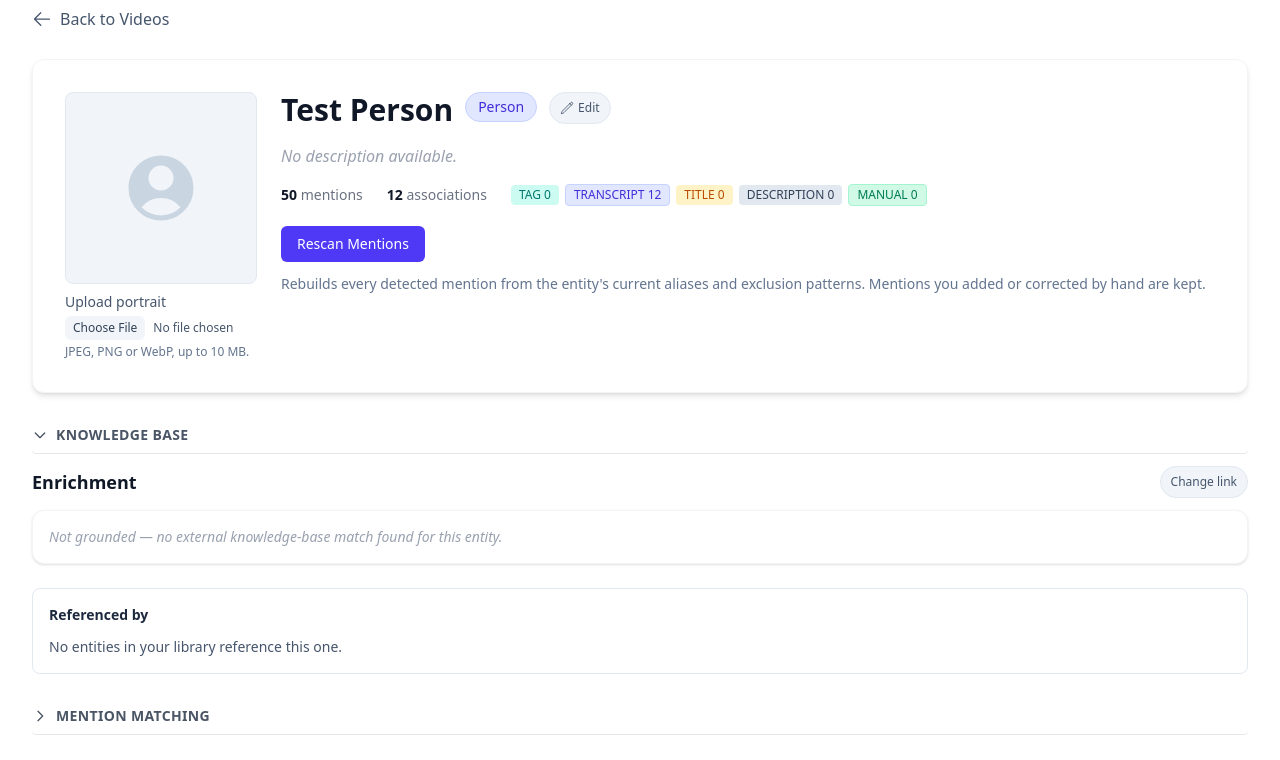
EntityDetailPage — alias delete (#289) › does not delete on a single click — shows a confirmation first
The width and height of the screenshot is (1280, 760).
Click the button "Mention matching": (133, 716) [32,698,1248,735]
(page scrolled)
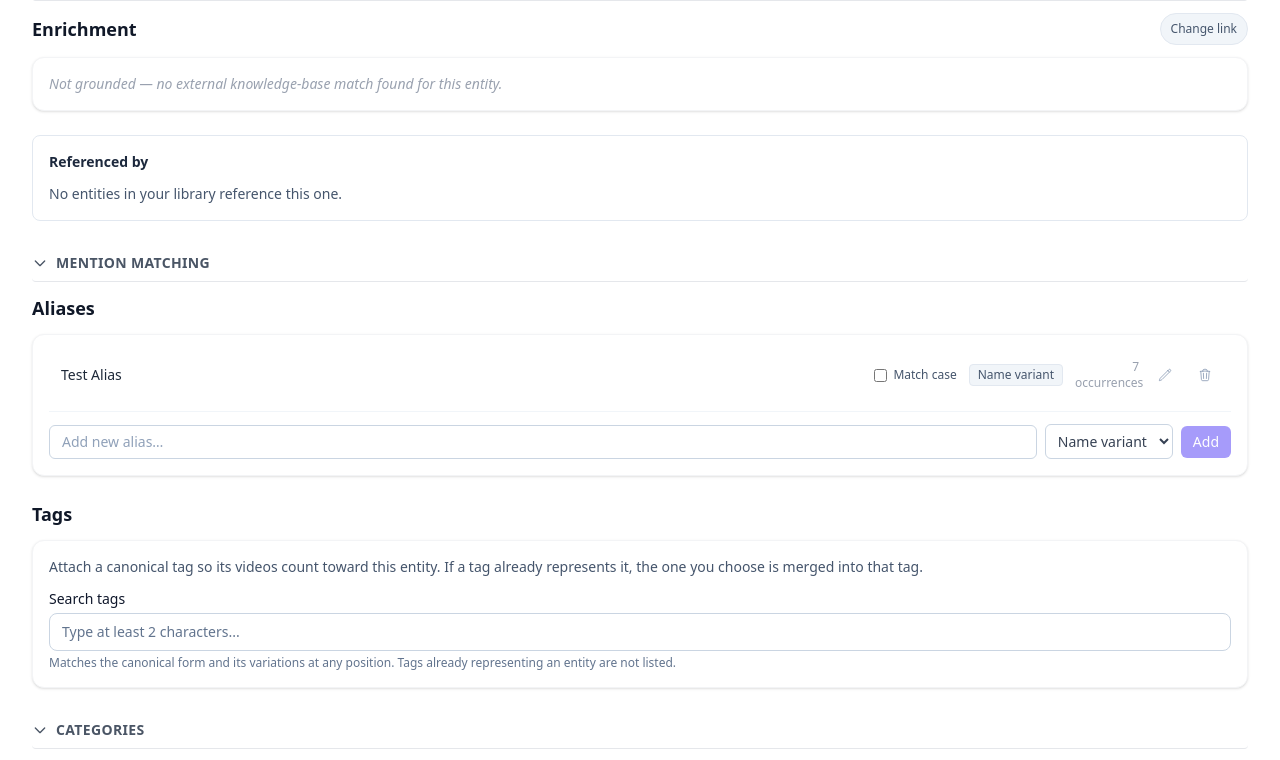
Click the button named "delete alias \"test alias\"": (1205, 375) [1191,361,1219,389]
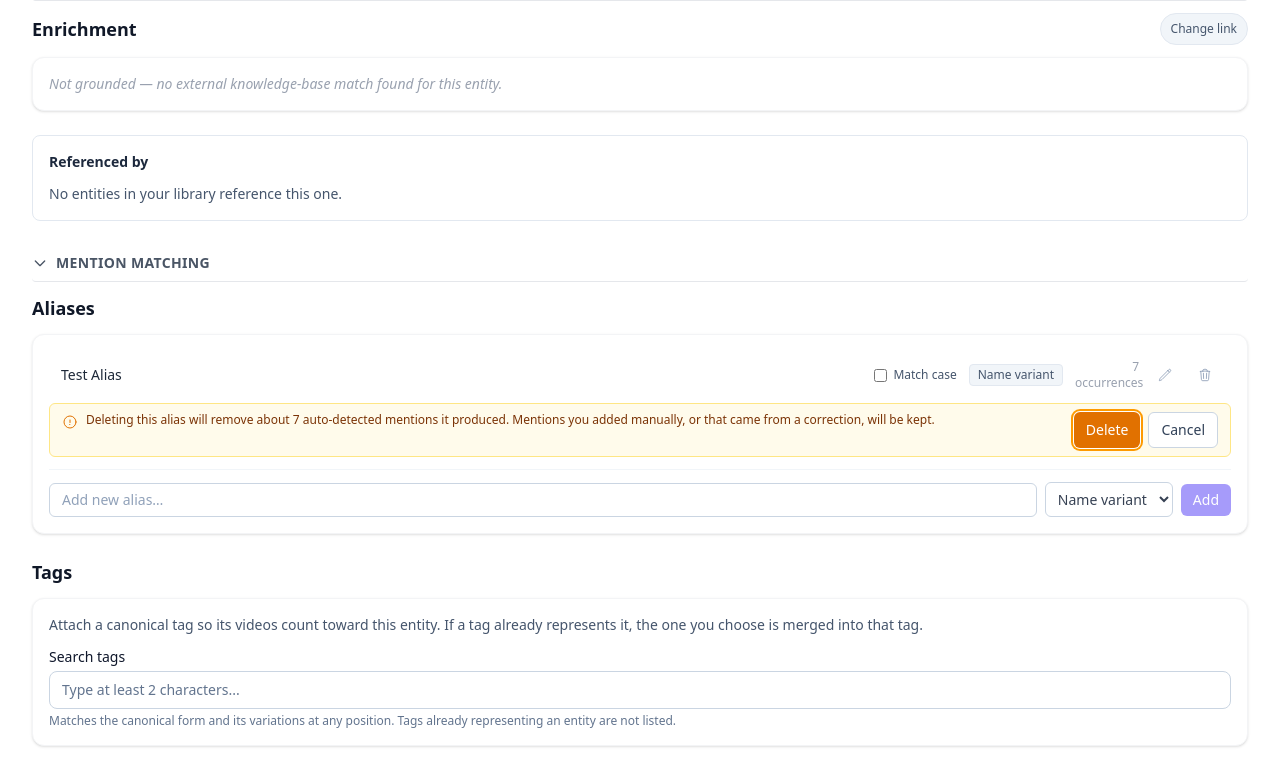
Now the button named "confirm deletion of alias \"test alias\"" is shown, box [1074,412,1140,448]
